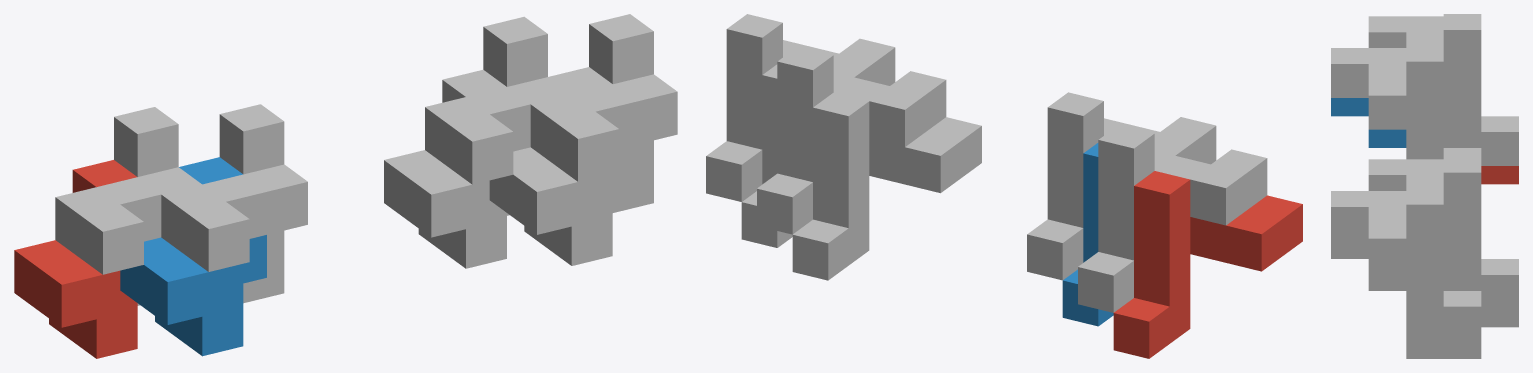
Rendered from tiling.obj.
3 renders of one model, left to right at view 1: azimuth 30°, elevation 25°; view 2: azimuth 150°, elevation 25°; view 3: azimuth 270°, elevation 25°, orthographic. The views are drawn at different scales.
Parts seen in each view (by area): view 1: copy_1_domain_8, copy_1_domain_4, copy_1_domain_3, copy_1_domain_7, copy_1_domain_6, copy_1_domain_2, copy_1_domain_1, copy_1_domain_5; view 2: copy_1_domain_5, copy_1_domain_1, copy_1_domain_7, copy_1_domain_3, copy_1_domain_4, copy_1_domain_8, copy_1_domain_6, copy_1_domain_2; view 3: copy_1_domain_8, copy_1_domain_4, copy_1_domain_3, copy_1_domain_7, copy_1_domain_6, copy_1_domain_2, copy_1_domain_1, copy_1_domain_5.
Part boxes in pixels (<box>): copy_1_domain_8: <box>530,14,677,212</box>; copy_1_domain_4: <box>161,104,307,303</box>; copy_1_domain_3: <box>55,107,201,305</box>; copy_1_domain_7: <box>425,16,571,215</box>; copy_1_domain_6: <box>489,67,636,265</box>; copy_1_domain_2: <box>120,157,266,356</box>; copy_1_domain_1: <box>14,160,137,358</box>; copy_1_domain_5: <box>384,69,506,268</box>; copy_1_domain_5: <box>792,92,981,280</box>; copy_1_domain_1: <box>1113,171,1302,358</box>; copy_1_domain_7: <box>757,46,946,234</box>; copy_1_domain_3: <box>1078,125,1267,312</box>; copy_1_domain_4: <box>1027,92,1216,280</box>; copy_1_domain_8: <box>706,14,895,201</box>; copy_1_domain_6: <box>741,64,792,247</box>; copy_1_domain_2: <box>1062,143,1113,326</box>; copy_1_domain_8: <box>1331,188,1481,340</box>; copy_1_domain_4: <box>1331,45,1481,159</box>; copy_1_domain_3: <box>1368,14,1518,165</box>; copy_1_domain_7: <box>1368,157,1518,308</box>; copy_1_domain_6: <box>1331,241,1481,358</box>; copy_1_domain_2: <box>1331,98,1406,147</box>; copy_1_domain_1: <box>1481,166,1518,184</box>; copy_1_domain_5: <box>1481,309,1518,327</box>.
Size of the model in its own units: 15 by 5 by 5.
